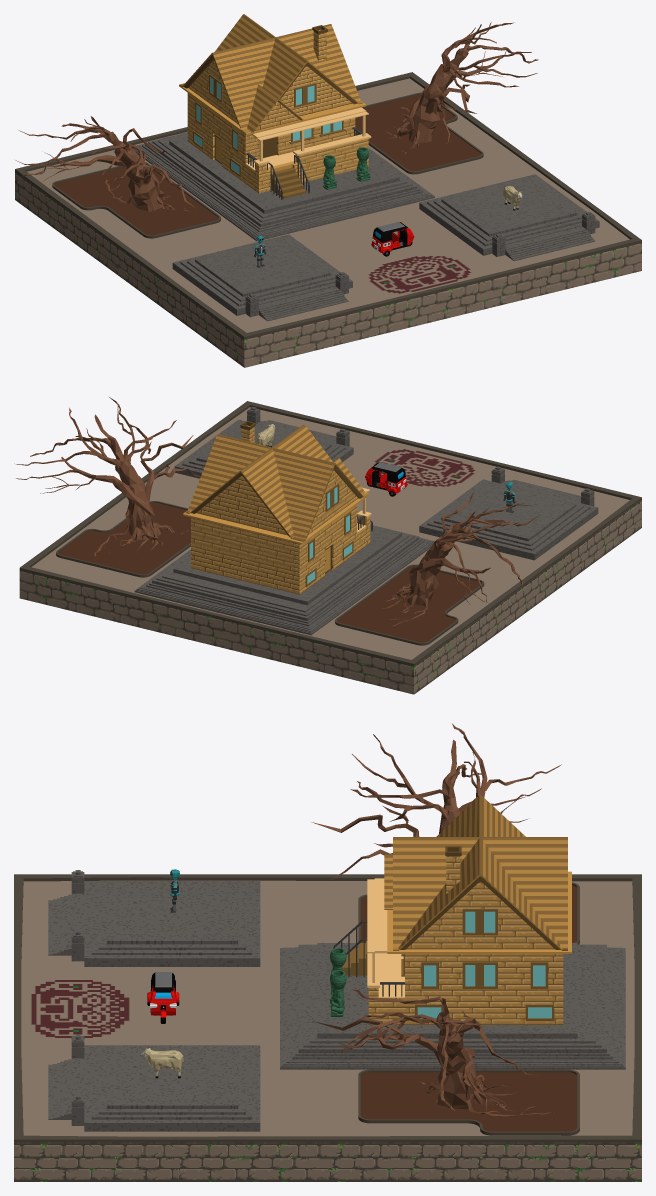
3 views of the same model, one above another, from view 1: azimuth 30°, elevation 25°; view 2: azimuth 150°, elevation 25°; view 3: azimuth 270°, elevation 25° (orthographic). The views are drawn at different scales.
Parts seen in each view (by area): view 1: Cube.011, Cube.508, VEHICLES_TUC_TUC; view 2: Cube.011, Cube.508, VEHICLES_TUC_TUC; view 3: Cube.011, Cube.508, VEHICLES_TUC_TUC, ANIMAL_OVEJA.
Boxes of the visible parts, box(x1,y1,x2,y2) form: Cube.011: box(15, 22, 641, 367); Cube.508: box(179, 14, 371, 199); VEHICLES_TUC_TUC: box(371, 222, 414, 256); Cube.011: box(14, 397, 641, 694); Cube.508: box(183, 421, 372, 594); VEHICLES_TUC_TUC: box(365, 462, 407, 496); Cube.011: box(14, 723, 641, 1181); Cube.508: box(333, 795, 571, 1024); VEHICLES_TUC_TUC: box(147, 972, 179, 1023); ANIMAL_OVEJA: box(141, 1048, 183, 1078).
Size of the model in its own units: 5099 by 1676 by 4000.
38 materials, 6 textured.
